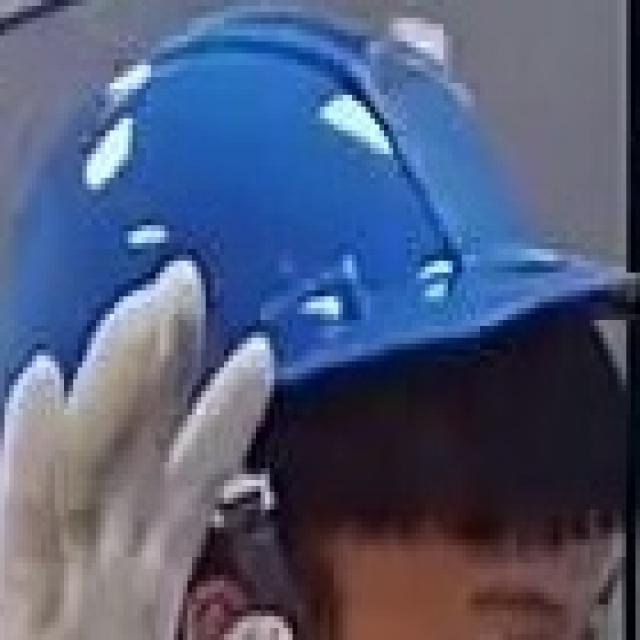helmet: (10, 8, 616, 378)
